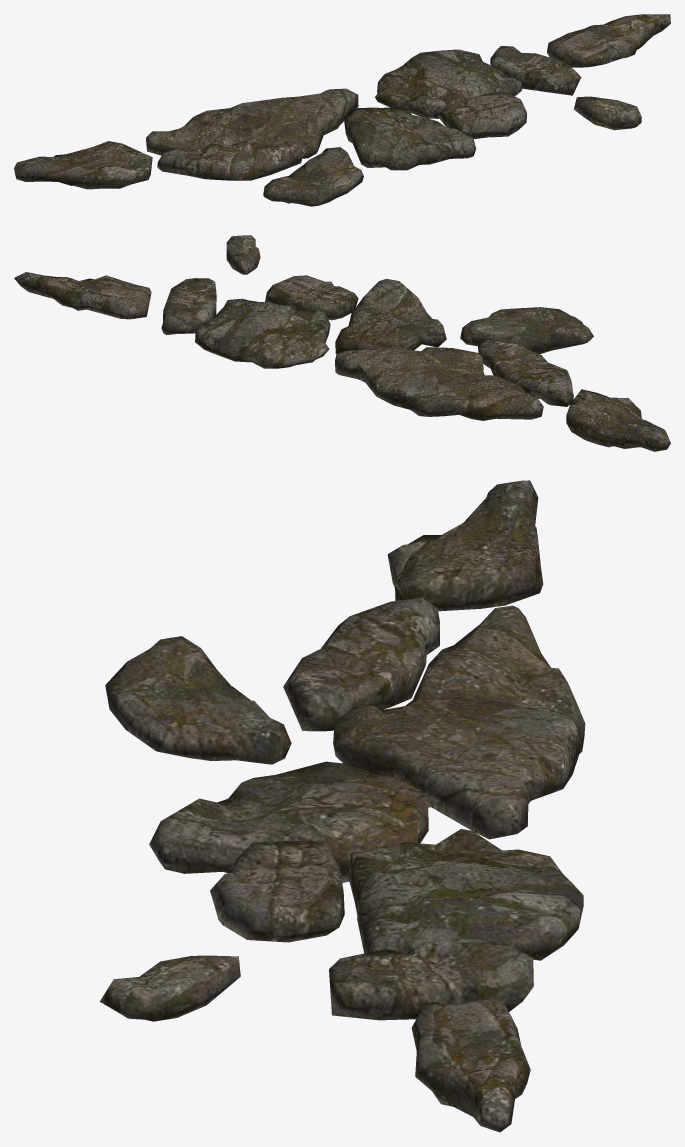
The model's file is CAER_Outdoor_Ground_Stones_A-transformed.glb.
3 renders of one model, top to bottom at view 1: azimuth 30°, elevation 25°; view 2: azimuth 150°, elevation 25°; view 3: azimuth 270°, elevation 25°, orthographic. The views are drawn at different scales.
Parts seen in each view (by area): view 1: default; view 2: default; view 3: default.
Boxes of the visible parts, x1,y1,x2,y2 form: default: [14, 14, 670, 206]; default: [14, 235, 670, 451]; default: [100, 480, 585, 1132].
Size of the model in its own units: 4.72 by 0.251 by 1.52.
Materials: 1 (1 with a texture image).
